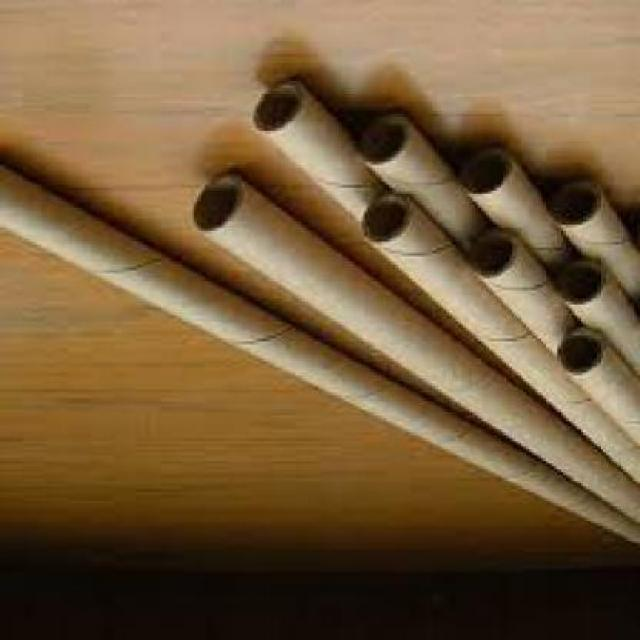box: (0, 171, 637, 546), (188, 177, 637, 531), (358, 197, 637, 489), (251, 80, 386, 222), (468, 231, 569, 357), (456, 149, 567, 257), (543, 177, 637, 291), (556, 328, 639, 454), (556, 257, 639, 371)
